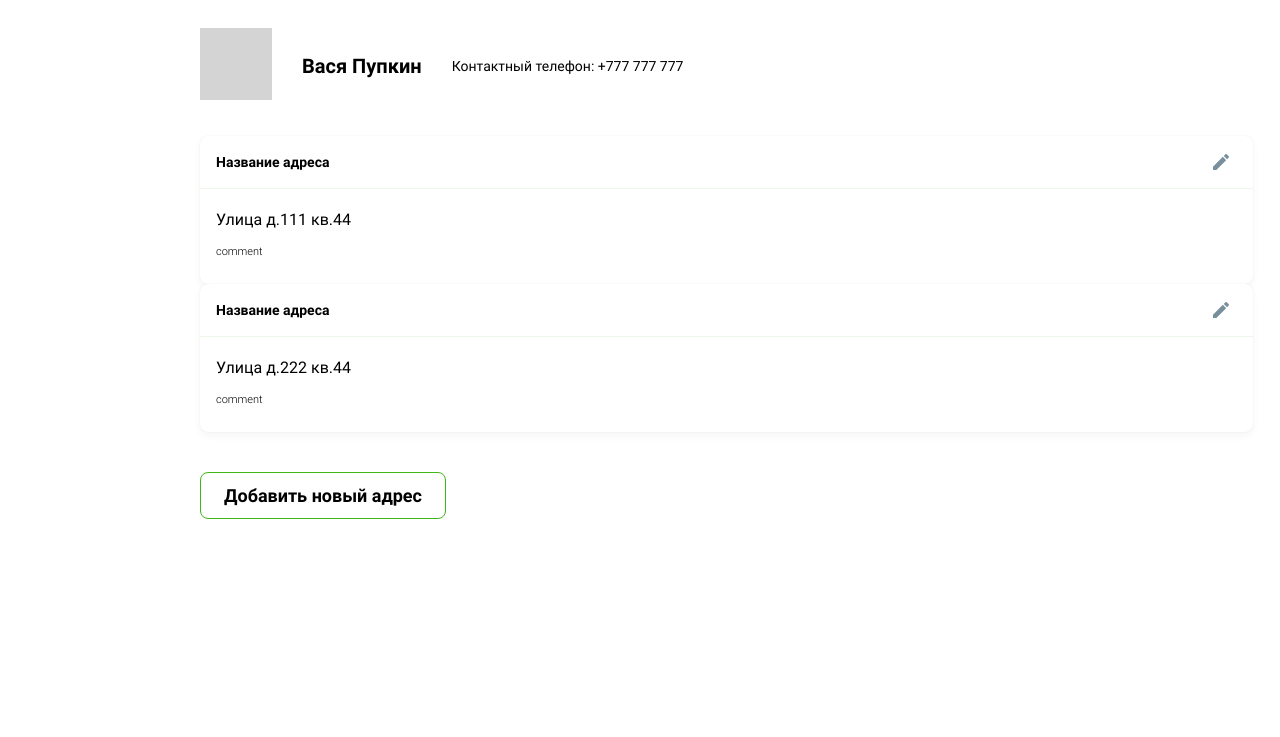
Test: Profile › when triggered editAddress button › should display edit form
Click the 1st button at (1221, 162), box x1=1205 y1=146 x2=1237 y2=178
(page scrolled)
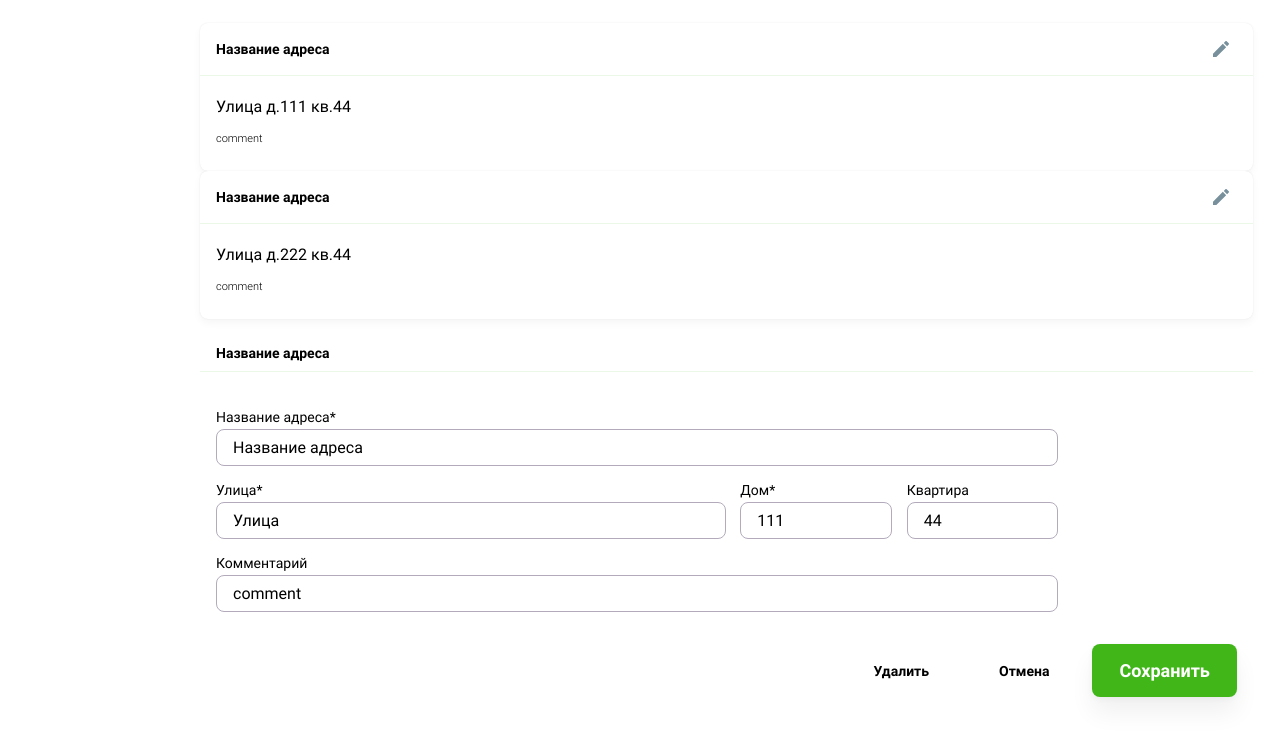
Expected: the element with id "edit" is shown, x1=200 y1=335 x2=1253 y2=697
